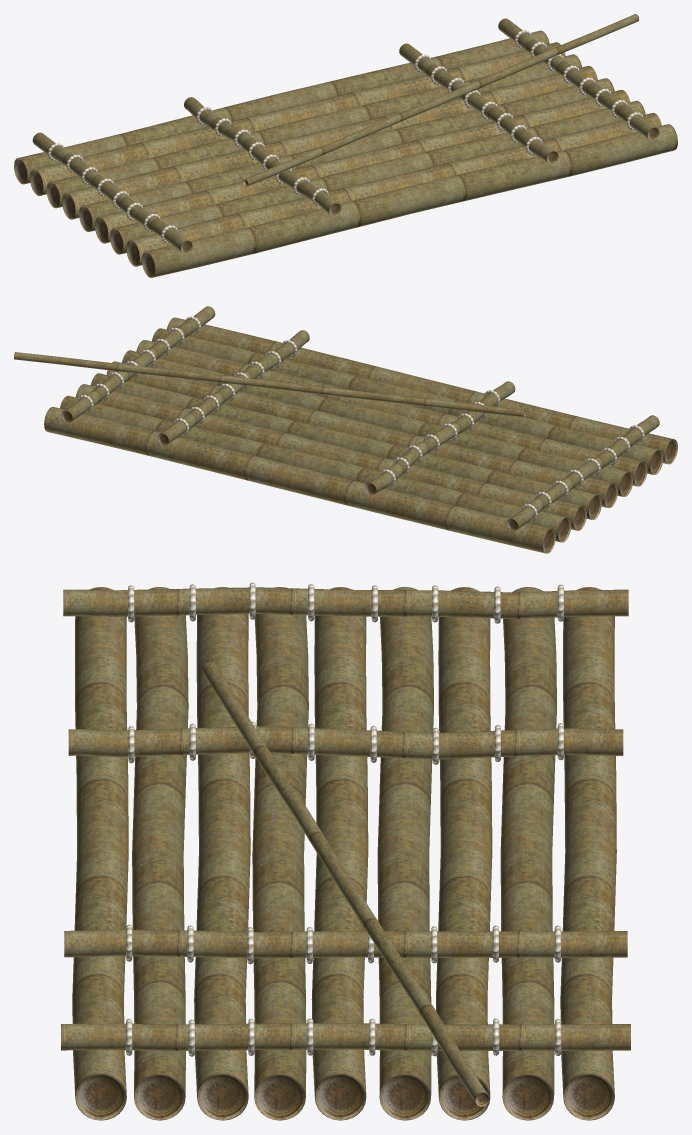
Rendered from bamboo_raft.glb.
3 views of the same model, one above another, from view 1: azimuth 30°, elevation 25°; view 2: azimuth 150°, elevation 25°; view 3: azimuth 270°, elevation 25° (orthographic). The views are drawn at different scales.
Visible parts, largest first — view 1: JangadaBambu, Remo; view 2: JangadaBambu, Remo; view 3: JangadaBambu, Remo.
Boxes of the visible parts, x1,y1,x2,y2 form: JangadaBambu: (14, 18, 677, 277); Remo: (242, 14, 638, 186); JangadaBambu: (44, 306, 677, 553); Remo: (14, 352, 525, 417); JangadaBambu: (61, 582, 630, 1120); Remo: (202, 662, 489, 1106).
Size of the model in its own units: 35.37 by 2.71 by 15.53.
Materials: 1 (1 with a texture image).
